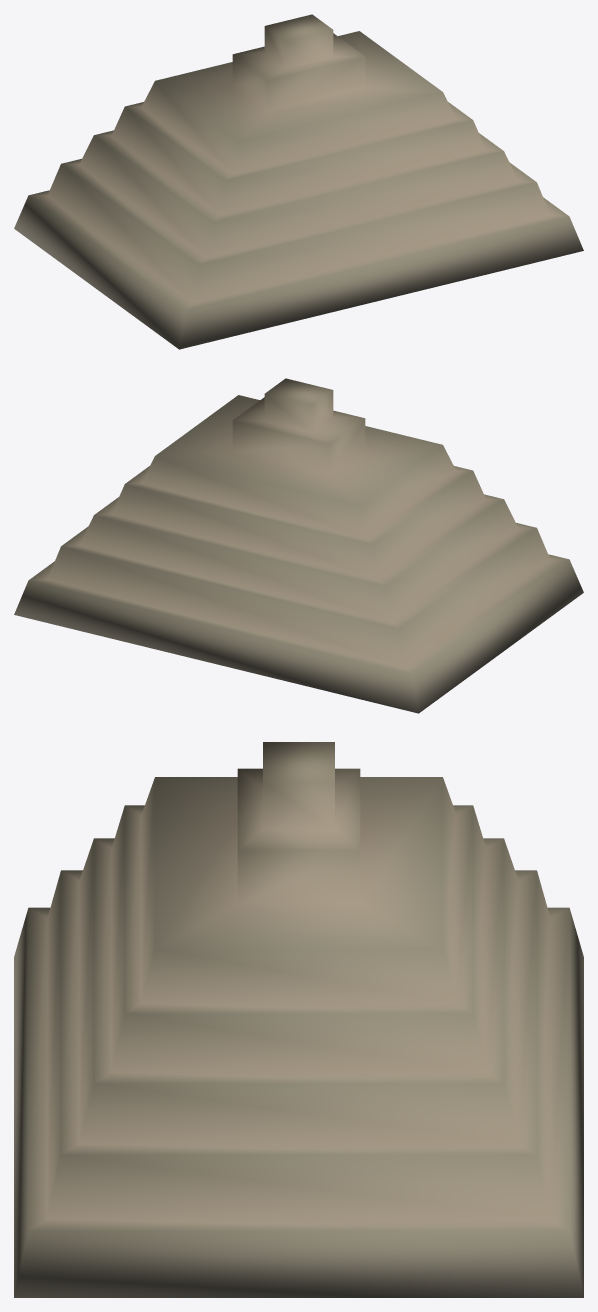
File: hkhb.hrc.gltf
3 views of the same model, one above another, from view 1: azimuth 30°, elevation 25°; view 2: azimuth 150°, elevation 25°; view 3: azimuth 270°, elevation 25° (orthographic). The views are drawn at different scales.
Parts seen in each view (by area): view 1: hkhbBone0_null; view 2: hkhbBone0_null; view 3: hkhbBone0_null.
Part boxes in pixels (left/top/right/bottom): hkhbBone0_null: left=14, top=14, right=583, bottom=349; hkhbBone0_null: left=14, top=378, right=583, bottom=713; hkhbBone0_null: left=14, top=742, right=583, bottom=1297.
Size of the model in its own units: 12.06 by 6.03 by 8.53.
